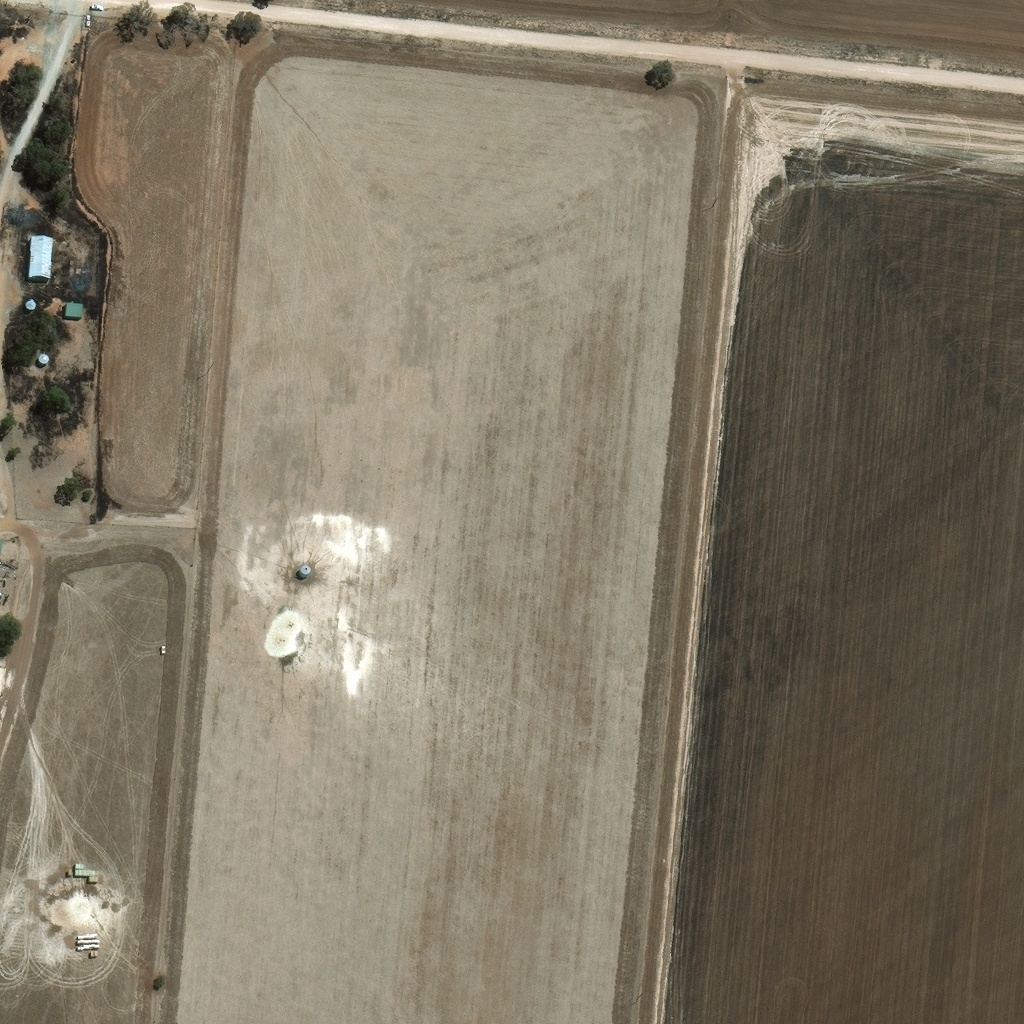0 no-damage: (28, 234, 54, 278), (66, 302, 81, 317), (300, 565, 312, 576), (39, 353, 50, 364), (26, 299, 37, 309), (86, 11, 93, 23)
4 un-classified: (0, 539, 6, 557)
